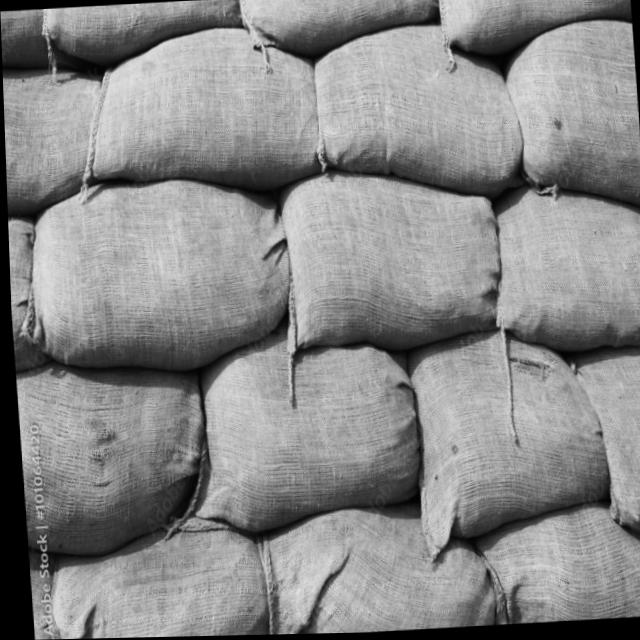sack: (8, 173, 293, 378), (149, 328, 420, 536), (404, 326, 609, 563), (274, 165, 503, 355), (71, 24, 321, 193), (13, 357, 210, 562), (310, 20, 525, 206), (252, 502, 493, 636), (38, 520, 267, 640), (484, 180, 640, 353), (501, 19, 640, 209), (469, 501, 640, 627), (2, 70, 107, 214), (566, 346, 640, 538)
